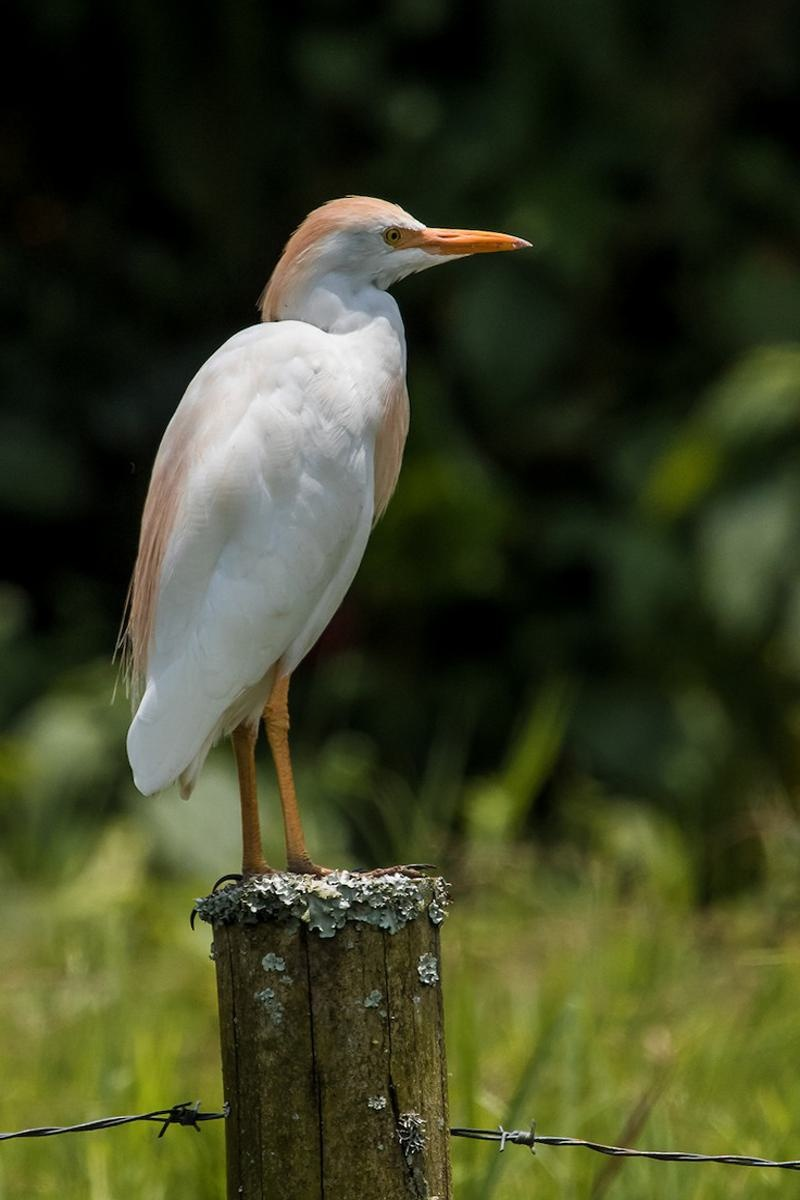egret: (109, 192, 547, 897)
